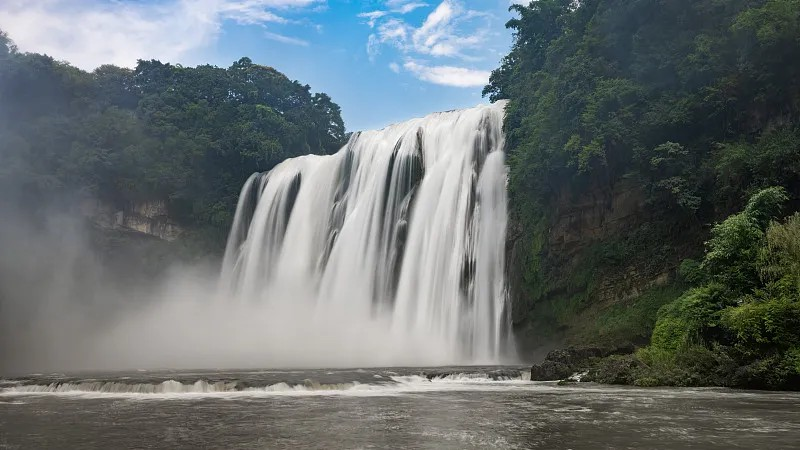Huangguoshu: (217, 98, 509, 366)
